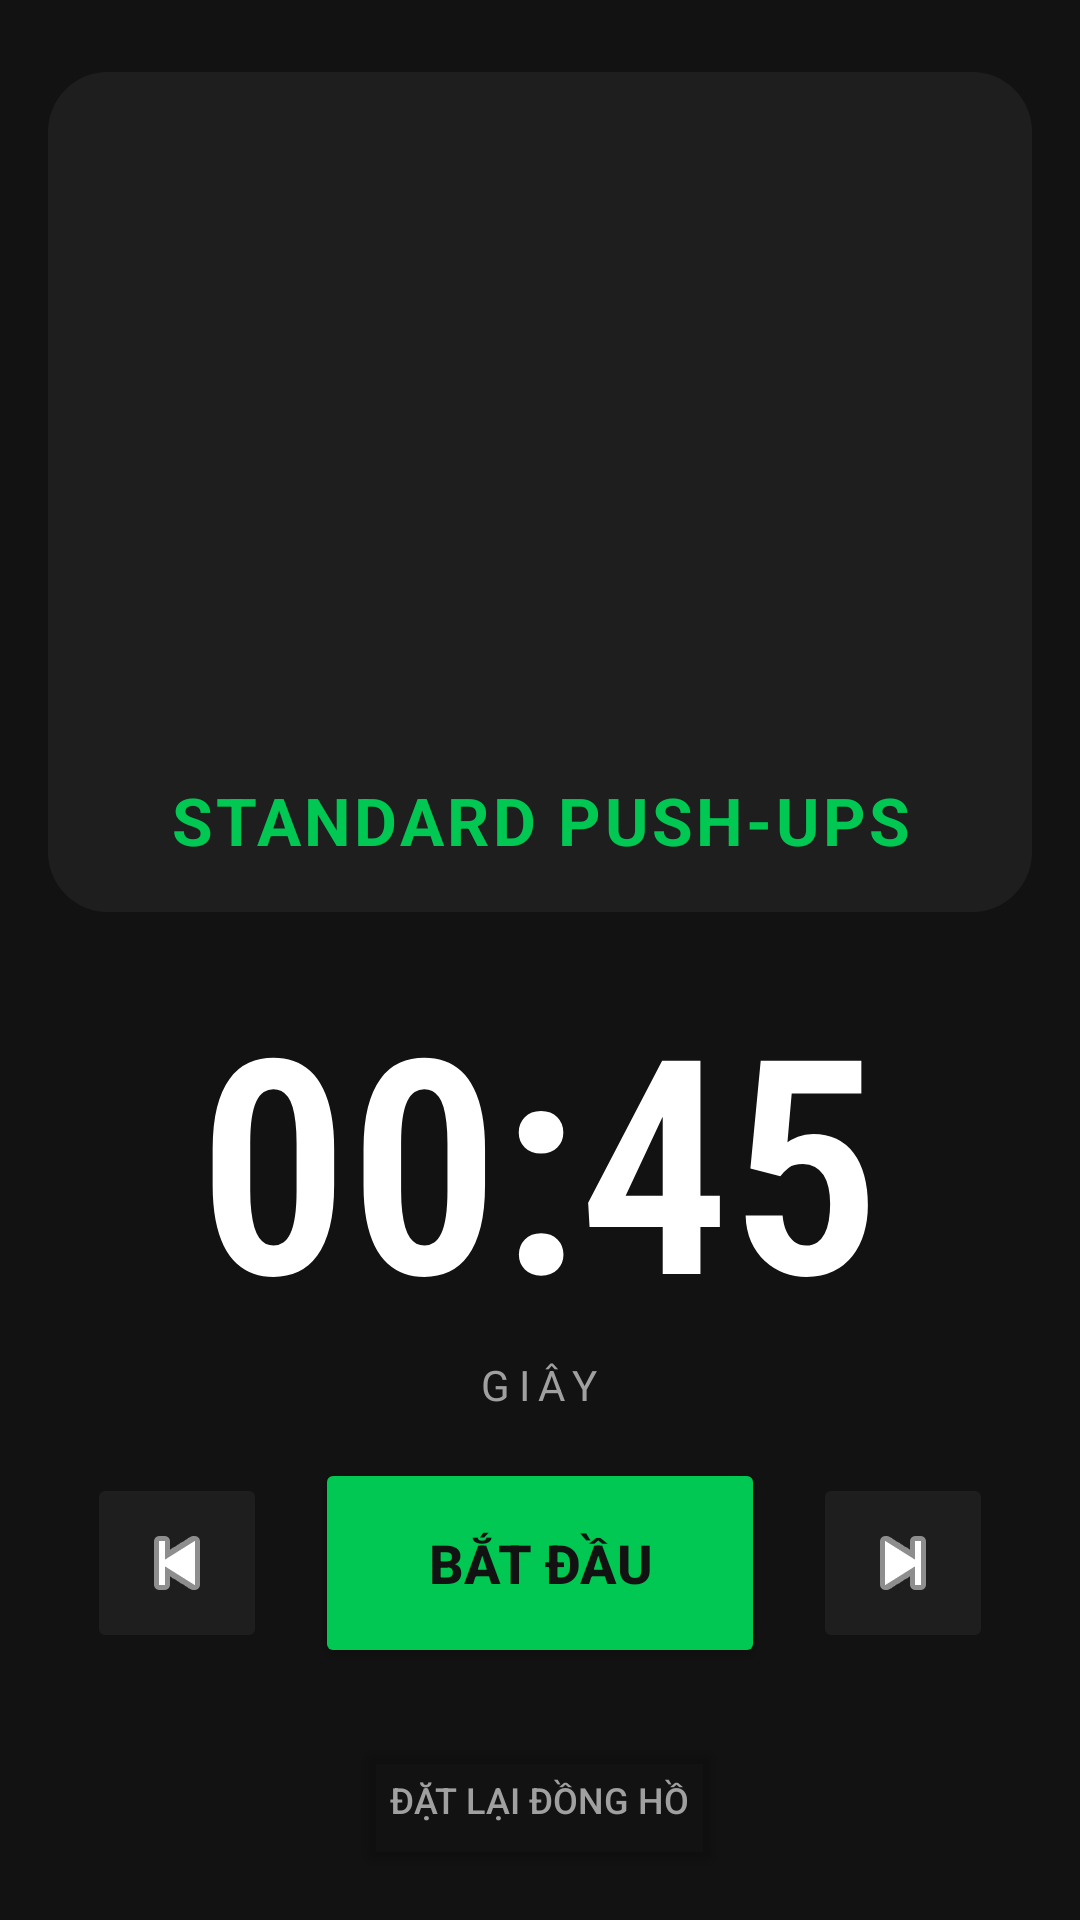

Icon bounding boxes for this 1080w x 1920h phone screenshot, format (x1, y1, x2, y2):
Bài tiếp theo: (880, 1536, 926, 1590)
Bài trước: (154, 1536, 200, 1590)
